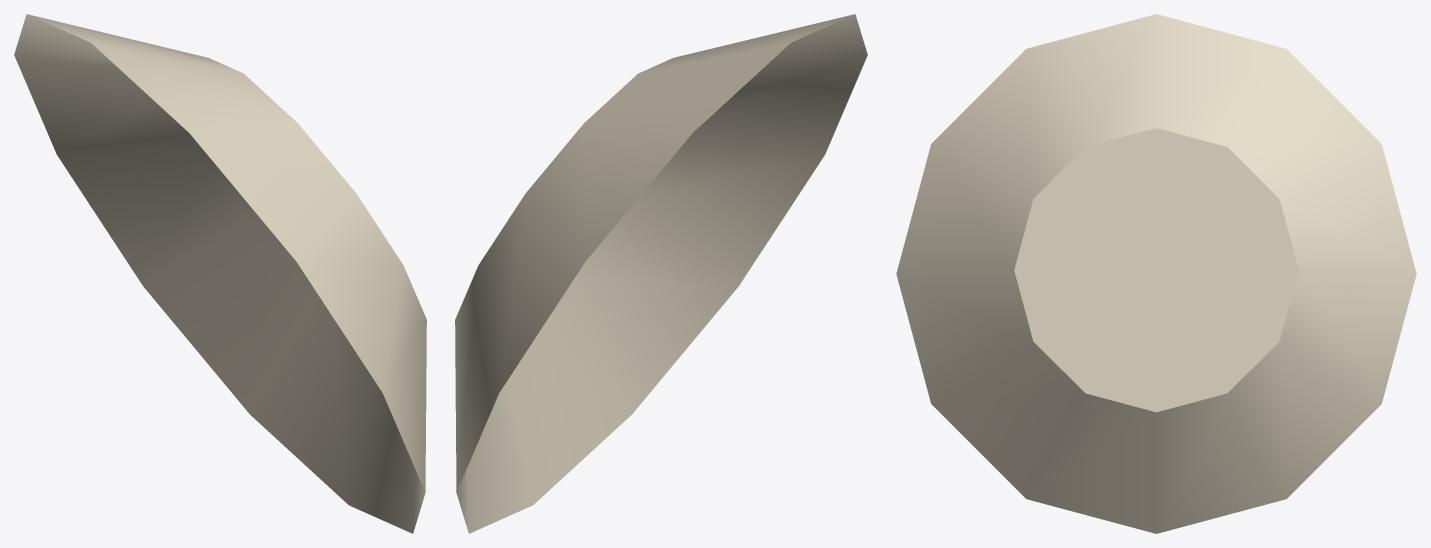
Rendered from Pin1.fbx.
3 renders of one model, left to right at view 1: azimuth 30°, elevation 25°; view 2: azimuth 150°, elevation 25°; view 3: azimuth 270°, elevation 25°, orthographic. The views are drawn at different scales.
Visible parts, largest first — view 1: polySurface387117.001; view 2: polySurface387117.001; view 3: polySurface387117.001.
Boxes of the visible parts, <box> form: polySurface387117.001: <box>14,14,426,533</box>; polySurface387117.001: <box>455,14,867,533</box>; polySurface387117.001: <box>896,14,1416,533</box>.
Size of the model in its own units: 9.31 by 4.85 by 8.28.
